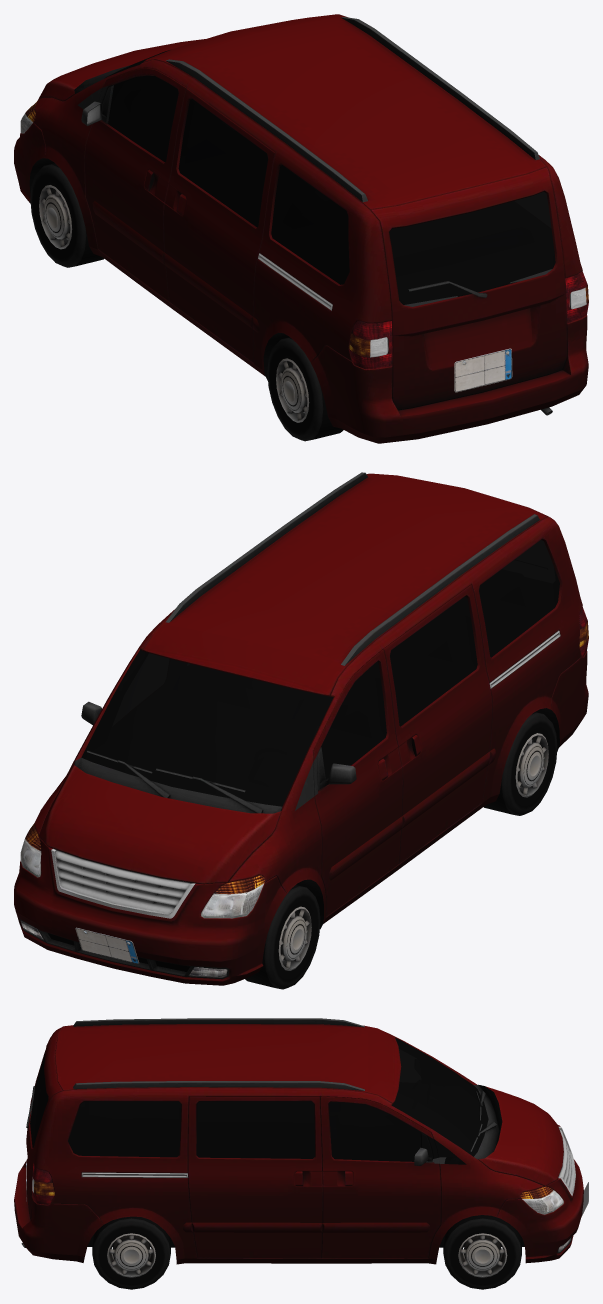
File: minivan.glb
3 renders of one model, top to bottom at view 1: azimuth 30°, elevation 25°; view 2: azimuth 150°, elevation 25°; view 3: azimuth 270°, elevation 25°, orthographic. The views are drawn at different scales.
Visible parts, largest first — view 1: minivan body_Body_0, minivan body_Glass_0, Tire_RL_0, Tire_FL_0, minivan body_Optics_0, LicensePlate_Rear; view 2: minivan body_Body_0, minivan body_Glass_0, Tire_FL_0, Tire_RL_0, minivan body_Optics_0, LicensePlate_Front; view 3: minivan body_Body_0, minivan body_Glass_0, Tire_FR_0, Tire_RR_0, minivan body_Optics_0.
Boxes of the visible parts, x1=… form: minivan body_Body_0: x1=14, y1=14, x2=588, y2=443; minivan body_Glass_0: x1=104, y1=50, x2=555, y2=306; Tire_RL_0: x1=267, y1=337, x2=343, y2=441; Tire_FL_0: x1=30, y1=163, x2=103, y2=267; minivan body_Optics_0: x1=20, y1=101, x2=588, y2=369; LicensePlate_Rear: x1=454, y1=348, x2=512, y2=392; minivan body_Body_0: x1=14, y1=472, x2=588, y2=985; minivan body_Glass_0: x1=81, y1=540, x2=559, y2=806; Tire_FL_0: x1=245, y1=885, x2=320, y2=989; Tire_RL_0: x1=484, y1=712, x2=557, y2=815; minivan body_Optics_0: x1=20, y1=607, x2=588, y2=976; LicensePlate_Front: x1=75, y1=927, x2=139, y2=963; minivan body_Body_0: x1=14, y1=1018, x2=583, y2=1264; minivan body_Glass_0: x1=30, y1=1037, x2=488, y2=1164; Tire_FR_0: x1=443, y1=1215, x2=521, y2=1289; Tire_RR_0: x1=92, y1=1216, x2=170, y2=1289; minivan body_Optics_0: x1=32, y1=1163, x2=570, y2=1251.
Bounding box in the file's own units: 1.87 × 1.76 × 4.65.
Materials: 6 (4 with a texture image).
